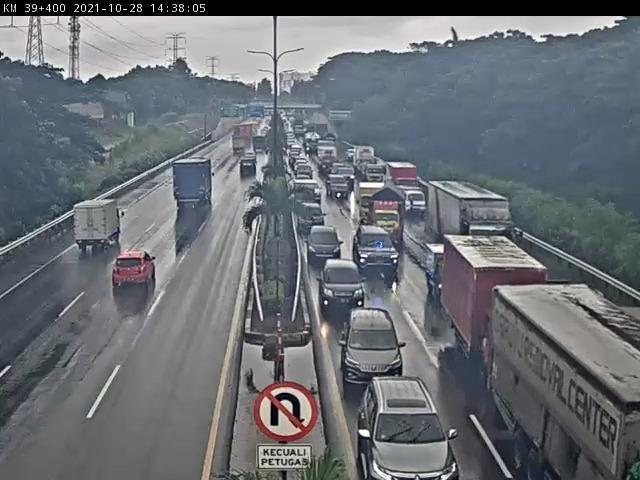car: (352, 365, 452, 480), (347, 301, 416, 385), (99, 238, 165, 304), (323, 253, 371, 325), (349, 222, 399, 276), (417, 240, 449, 307), (310, 214, 341, 273), (297, 202, 331, 245), (239, 150, 268, 182)
truck: (497, 296, 640, 480), (440, 236, 551, 371), (443, 193, 524, 270), (48, 192, 135, 263), (166, 146, 220, 212), (371, 190, 413, 249)
